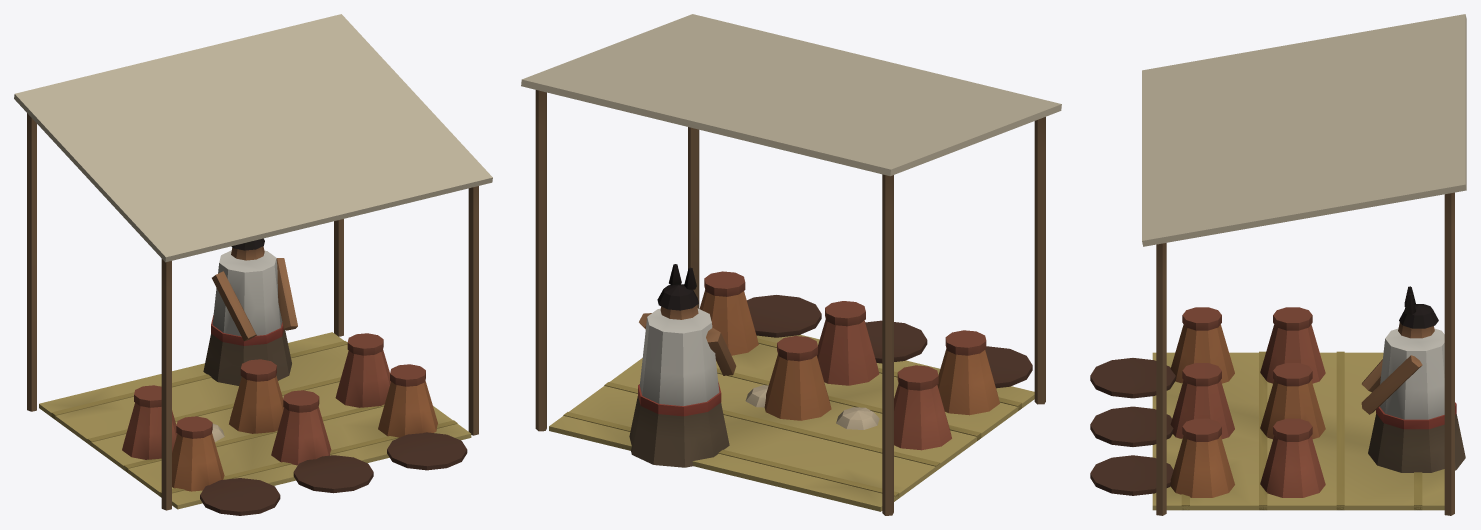
The model's file is stall-pots.glb.
The picture shows the model from 3 angles, left to right: view 1: azimuth 30°, elevation 25°; view 2: azimuth 150°, elevation 25°; view 3: azimuth 270°, elevation 25°; orthographic projection. The views are drawn at different scales.
Visible parts, largest first — view 1: base; view 2: base; view 3: base.
Boxes of the visible parts, x1,y1,x2,y2 form: base: (14,14,492,515); base: (521,14,1061,515); base: (1090,14,1466,515).
Size of the model in its own units: 2.45 by 2.24 by 2.29.
